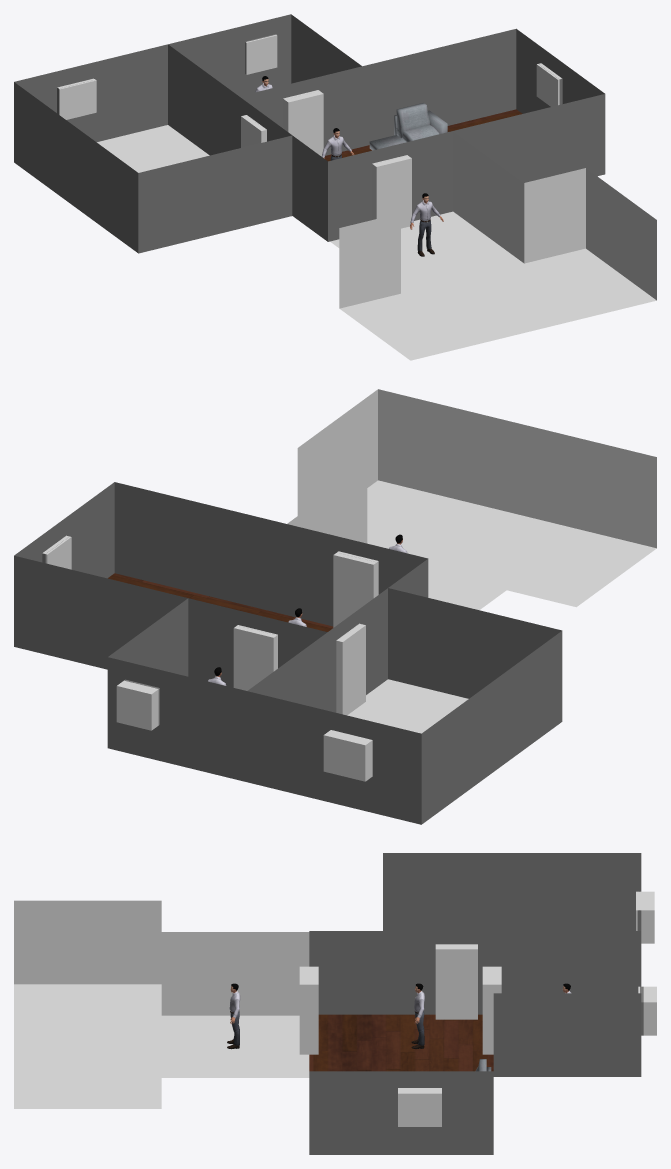
File: scenetest2 1.glb
The picture shows the model from 3 angles, top to bottom: view 1: azimuth 30°, elevation 25°; view 2: azimuth 150°, elevation 25°; view 3: azimuth 270°, elevation 25°; orthographic projection. The views are drawn at different scales.
Parts seen in each view (by area): view 1: Room, Room.002, Floor.001, Room.001, Room.003, Floor.002, CTRL_Hole, CTRL_Hole.002, CTRL_Hole.004, CTRL_Hole.005, CTRL_Hole.003, 立方体.009 (+2 smaller); view 2: Room, Room.002, Room.001, Floor.001, Room.003, Floor.002, CTRL_Hole, CTRL_Hole.001, CTRL_Hole.002, CTRL_Hole.004, CTRL_Hole.005, Floor (+1 smaller); view 3: Room.002, Floor.001, Room, Room.001, Room.003, Floor, CTRL_Hole.001, CTRL_Hole.003, CTRL_Hole, CTRL_Hole.002, CTRL_Hole.004, CTRL_Hole.005 (+1 smaller).
Part boxes in pixels (<box>): Room: <box>239,28,605,241</box>; Room.002: <box>14,44,292,253</box>; Floor.001: <box>330,211,656,360</box>; Room.001: <box>339,131,656,308</box>; Room.003: <box>168,14,361,96</box>; Floor.002: <box>97,125,209,172</box>; CTRL_Hole: <box>372,156,411,228</box>; CTRL_Hole.002: <box>283,91,323,156</box>; CTRL_Hole.004: <box>57,78,96,119</box>; CTRL_Hole.005: <box>245,34,277,74</box>; CTRL_Hole.003: <box>536,63,561,106</box>; 立方体.009: <box>396,103,429,138</box>; Room: <box>14,482,428,712</box>; Room.002: <box>247,588,562,824</box>; Room.001: <box>287,389,656,548</box>; Floor.001: <box>367,480,656,610</box>; Room.003: <box>107,598,247,781</box>; Floor.002: <box>347,679,468,733</box>; CTRL_Hole: <box>333,552,378,627</box>; CTRL_Hole.001: <box>336,624,365,715</box>; CTRL_Hole.002: <box>233,625,277,690</box>; CTRL_Hole.004: <box>323,730,372,781</box>; CTRL_Hole.005: <box>116,680,158,730</box>; Floor: <box>108,573,333,631</box>; Room.002: <box>383,853,641,993</box>; Floor.001: <box>14,984,309,1108</box>; Room: <box>309,931,493,1154</box>; Room.001: <box>14,900,309,1015</box>; Room.003: <box>493,993,641,1076</box>; Floor: <box>309,1014,493,1071</box>; CTRL_Hole.001: <box>435,946,477,1019</box>; CTRL_Hole.003: <box>398,1088,441,1126</box>; CTRL_Hole: <box>299,966,318,1054</box>; CTRL_Hole.002: <box>482,966,501,1054</box>; CTRL_Hole.004: <box>636,891,654,943</box>; CTRL_Hole.005: <box>638,986,656,1035</box>.
Bounding box in the file's own units: 14.36 × 2.6 × 17.42.
Materials: 15 (11 with a texture image).
